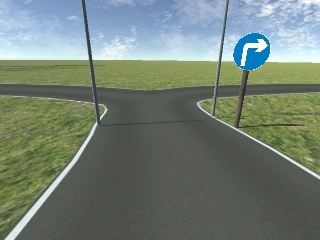TRight: (233, 32, 272, 73)
